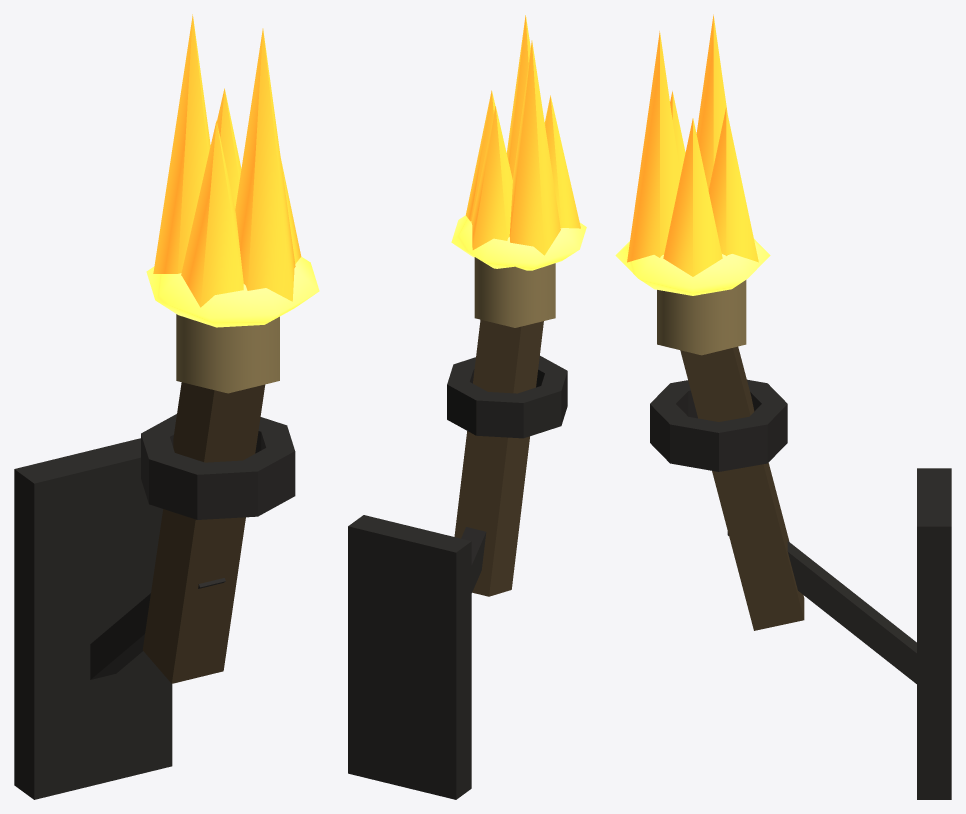
File: jt_wall_torch.glb
3 renders of one model, left to right at view 1: azimuth 30°, elevation 25°; view 2: azimuth 150°, elevation 25°; view 3: azimuth 270°, elevation 25°, orthographic. The views are drawn at different scales.
Visible parts, largest first — view 1: jt_wall_torch; view 2: jt_wall_torch; view 3: jt_wall_torch.
Boxes of the visible parts, x1,y1,x2,y2 form: jt_wall_torch: [14, 14, 319, 799]; jt_wall_torch: [348, 15, 586, 799]; jt_wall_torch: [615, 14, 951, 799].
Size of the model in its own units: 0.1792 by 0.95 by 0.3884.
